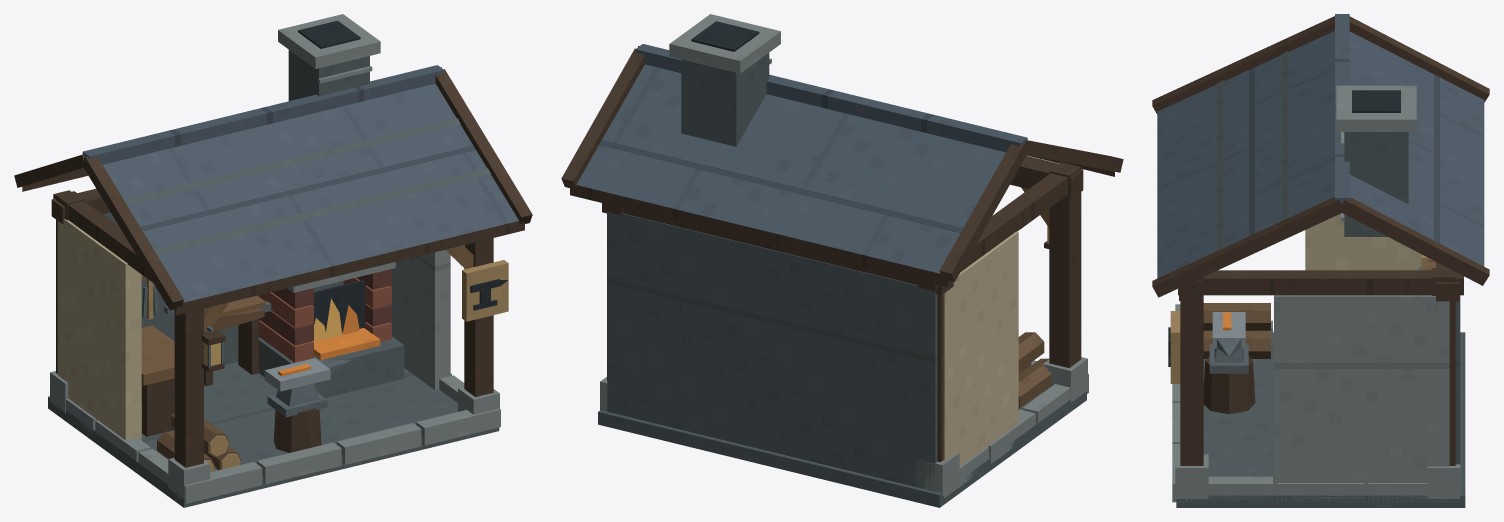
The model's file is forge.glb.
The picture shows the model from 3 angles, left to right: view 1: azimuth 30°, elevation 25°; view 2: azimuth 150°, elevation 25°; view 3: azimuth 270°, elevation 25°; orthographic projection. The views are drawn at different scales.
Visible parts, largest first — view 1: front-roof-pitch.001, front-roof-pitch, left-plaster-return, continuous-foundation, right-hearth-return, ridge-cap, massive-oak-column, hearth-base, gable-front-bargeboard, massive-oak-column.002, chimney-cap, gable-front-bargeboard.001 (+39 smaller); view 2: rear-masonry-wall, rear-roof-pitch, rear-roof-pitch.001, left-plaster-return, continuous-foundation, ridge-cap, chimney-shaft, massive-oak-column, side-roof-plate, chimney-cap, gable-rear-bargeboard, gable-rear-bargeboard.001 (+13 smaller); view 3: right-hearth-return, front-roof-pitch, front-roof-pitch.001, continuous-foundation, rear-roof-pitch, rear-roof-pitch.001, side-roof-plate.001, left-plaster-return, chimney-shaft, massive-oak-column.002, gable-front-bargeboard.001, gable-rear-bargeboard.001 (+24 smaller).
Part boxes in pixels (box(x1,y1,x2,y2)): front-roof-pitch.001: box(267, 83, 518, 261); front-roof-pitch: box(103, 125, 350, 302); left-plaster-return: box(57, 219, 141, 440); continuous-foundation: box(48, 361, 499, 507); right-hearth-return: box(390, 250, 450, 389); ridge-cap: box(82, 65, 444, 164); massive-oak-column: box(174, 308, 203, 467); hearth-base: box(259, 336, 404, 397); gable-front-bargeboard: box(82, 156, 183, 310); massive-oak-column.002: box(464, 238, 493, 396); chimney-cap: box(278, 14, 380, 68); gable-front-bargeboard.001: box(435, 69, 532, 223); rear-masonry-wall: box(607, 211, 937, 490); rear-roof-pitch: box(759, 109, 1005, 273); rear-roof-pitch.001: box(576, 64, 827, 229); left-plaster-return: box(943, 231, 1018, 465); continuous-foundation: box(598, 391, 1086, 507); ridge-cap: box(635, 44, 1027, 152); chimney-shaft: box(681, 53, 769, 146); massive-oak-column: box(1049, 162, 1081, 367); side-roof-plate: box(918, 173, 1067, 291); chimney-cap: box(669, 14, 780, 73); gable-rear-bargeboard: box(939, 143, 1026, 281); gable-rear-bargeboard.001: box(561, 48, 644, 187); right-hearth-return: box(1274, 295, 1449, 494); front-roof-pitch: box(1157, 31, 1334, 198); front-roof-pitch.001: box(1157, 118, 1334, 278); continuous-foundation: box(1176, 332, 1465, 507); rear-roof-pitch: box(1349, 31, 1484, 186); rear-roof-pitch.001: box(1349, 149, 1484, 266); side-roof-plate.001: box(1178, 270, 1463, 295); left-plaster-return: box(1305, 213, 1427, 270); chimney-shaft: box(1344, 132, 1408, 236); massive-oak-column.002: box(1180, 277, 1203, 465); gable-front-bargeboard.001: box(1152, 197, 1344, 297); gable-rear-bargeboard.001: box(1340, 197, 1489, 285).
Size of the model in its own units: 4.52 by 4.16 by 3.46.
1 material, 1 textured.
